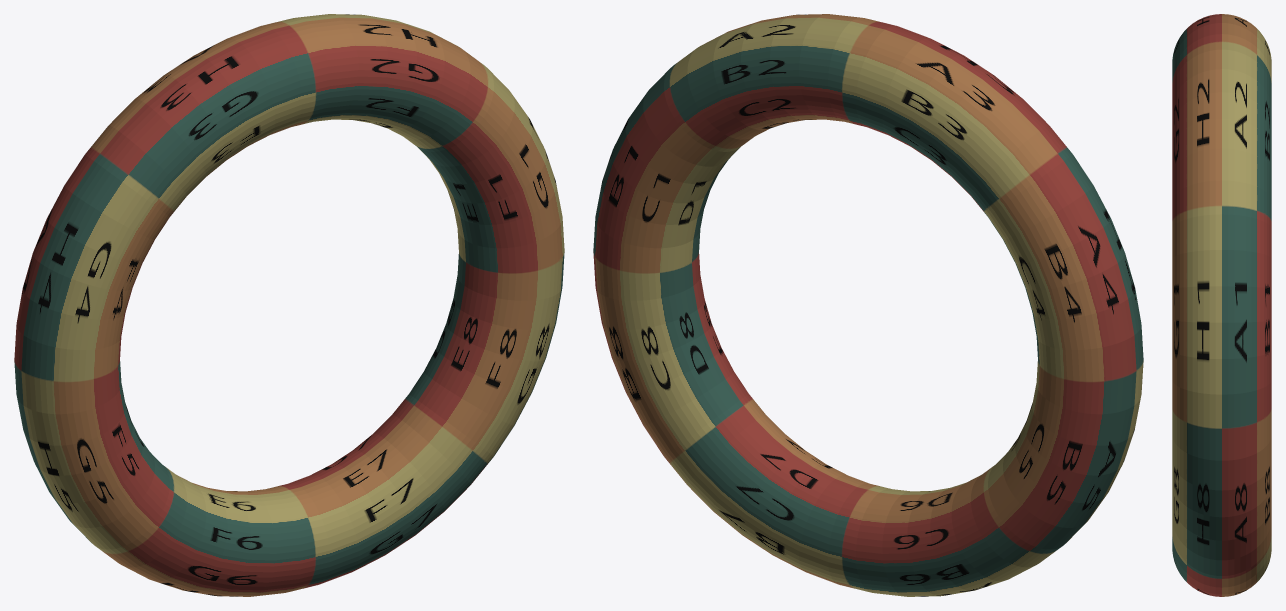
The model's file is texture_torus_R19_r10.glb.
3 views of the same model, side by side, from view 1: azimuth 30°, elevation 25°; view 2: azimuth 150°, elevation 25°; view 3: azimuth 270°, elevation 25° (orthographic). The views are drawn at different scales.
Parts seen in each view (by area): view 1: world; view 2: world; view 3: world.
Boxes of the visible parts, x1,y1,x2,y2 form: world: (14,14,564,596); world: (593,14,1143,596); world: (1172,14,1271,596).
Size of the model in its own units: 27.33 by 27.28 by 4.66.
1 material, 1 textured.
